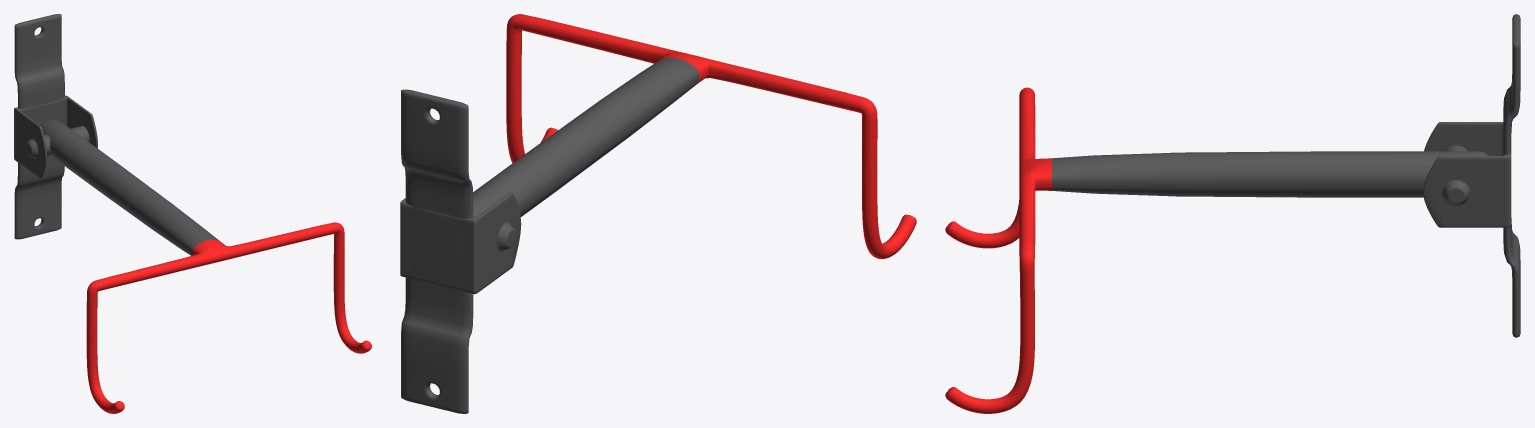
The model's file is hang2-red.glb.
3 renders of one model, left to right at view 1: azimuth 30°, elevation 25°; view 2: azimuth 150°, elevation 25°; view 3: azimuth 270°, elevation 25°, orthographic. The views are drawn at different scales.
Visible parts, largest first — view 1: Hang; view 2: Hang; view 3: Hang.
Boxes of the visible parts, x1,y1,x2,y2 form: Hang: [14, 14, 371, 413]; Hang: [400, 14, 916, 413]; Hang: [945, 14, 1520, 413].
Bounding box in the file's own units: 0.4014 × 0.3298 × 0.5682.
